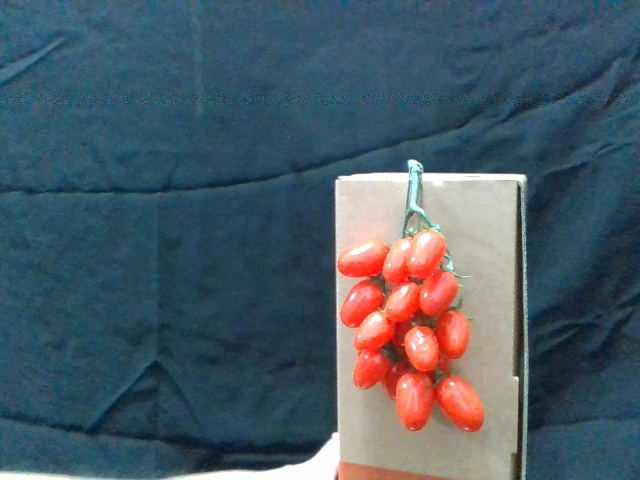tomato: (436, 376, 487, 432), (397, 371, 435, 434), (339, 281, 387, 328), (410, 230, 447, 278), (420, 271, 459, 316), (338, 242, 388, 277), (404, 325, 440, 373), (439, 307, 471, 360), (356, 311, 394, 355), (352, 349, 391, 390), (387, 282, 423, 324)
